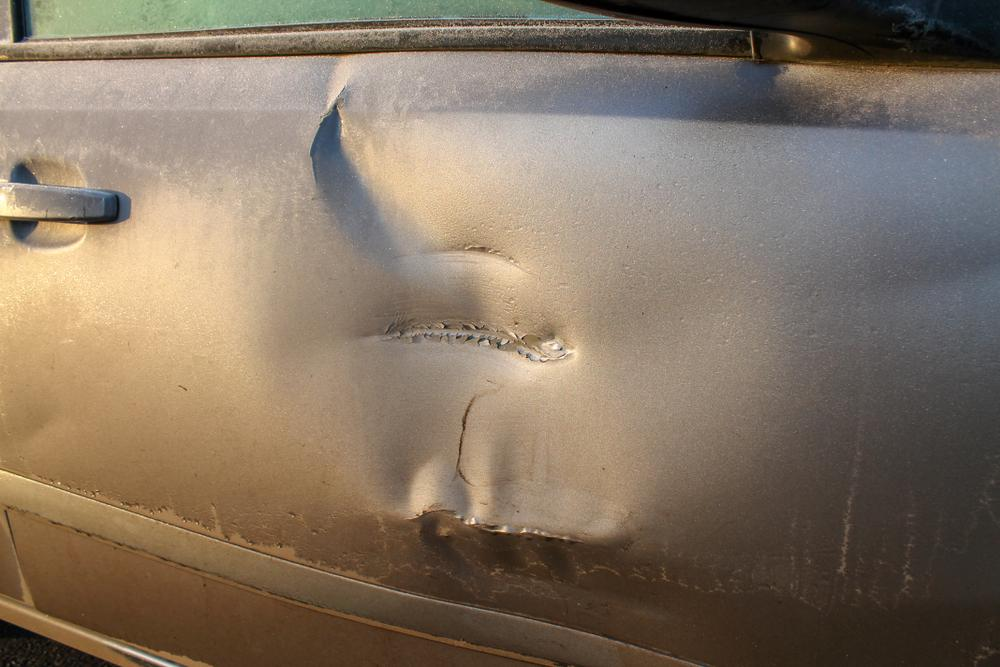dent: (267, 96, 621, 582)
